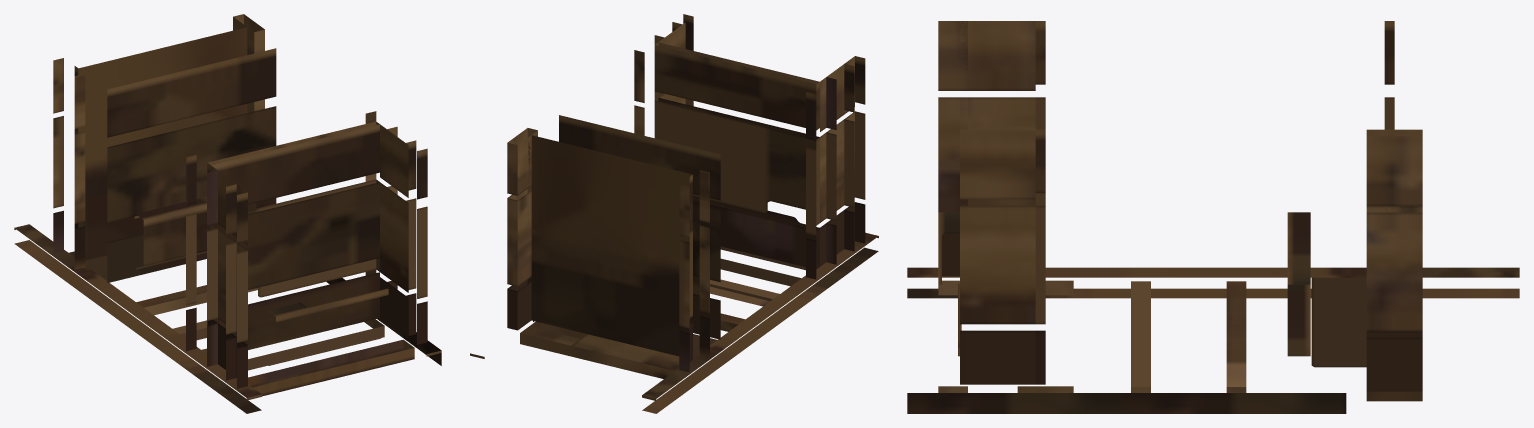
The model's file is section-3.obj.
3 views of the same model, side by side, from view 1: azimuth 30°, elevation 25°; view 2: azimuth 150°, elevation 25°; view 3: azimuth 270°, elevation 25° (orthographic). The views are drawn at different scales.
Size of the model in its own units: 0.9 by 0.925 by 1.86.
